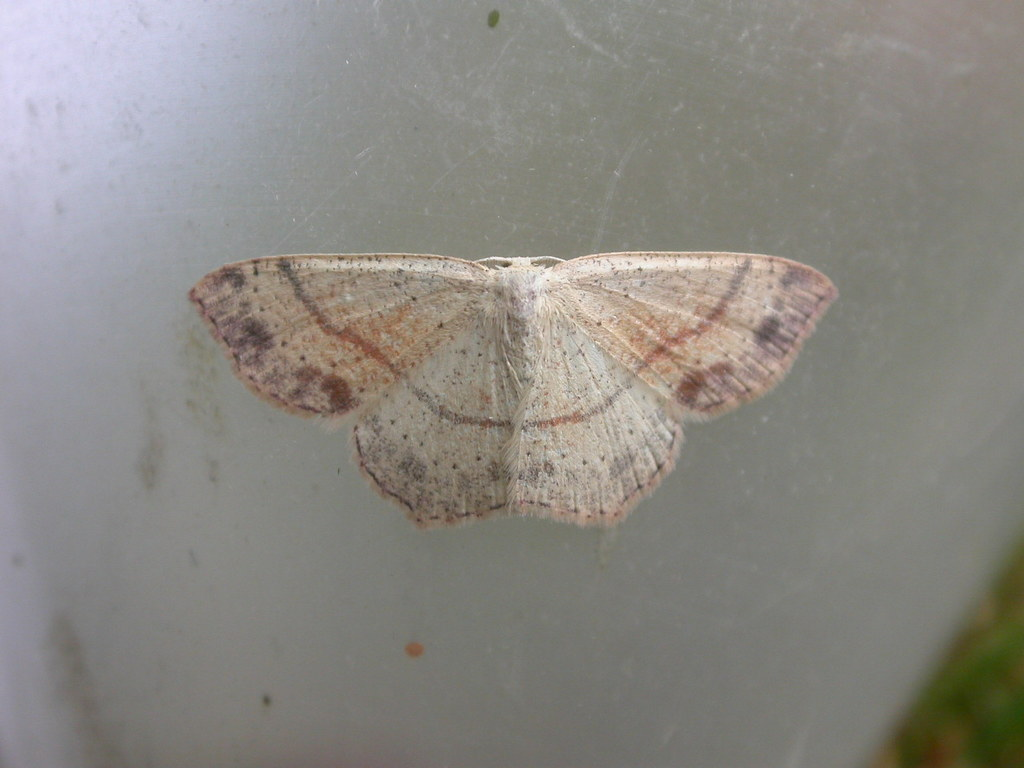Butterfly: (173, 208, 836, 541)
